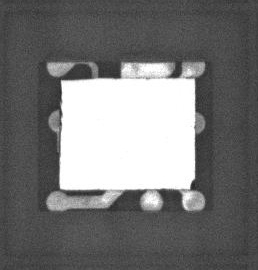DIE_BROKEN: (59, 81, 64, 159), (189, 178, 195, 189)
